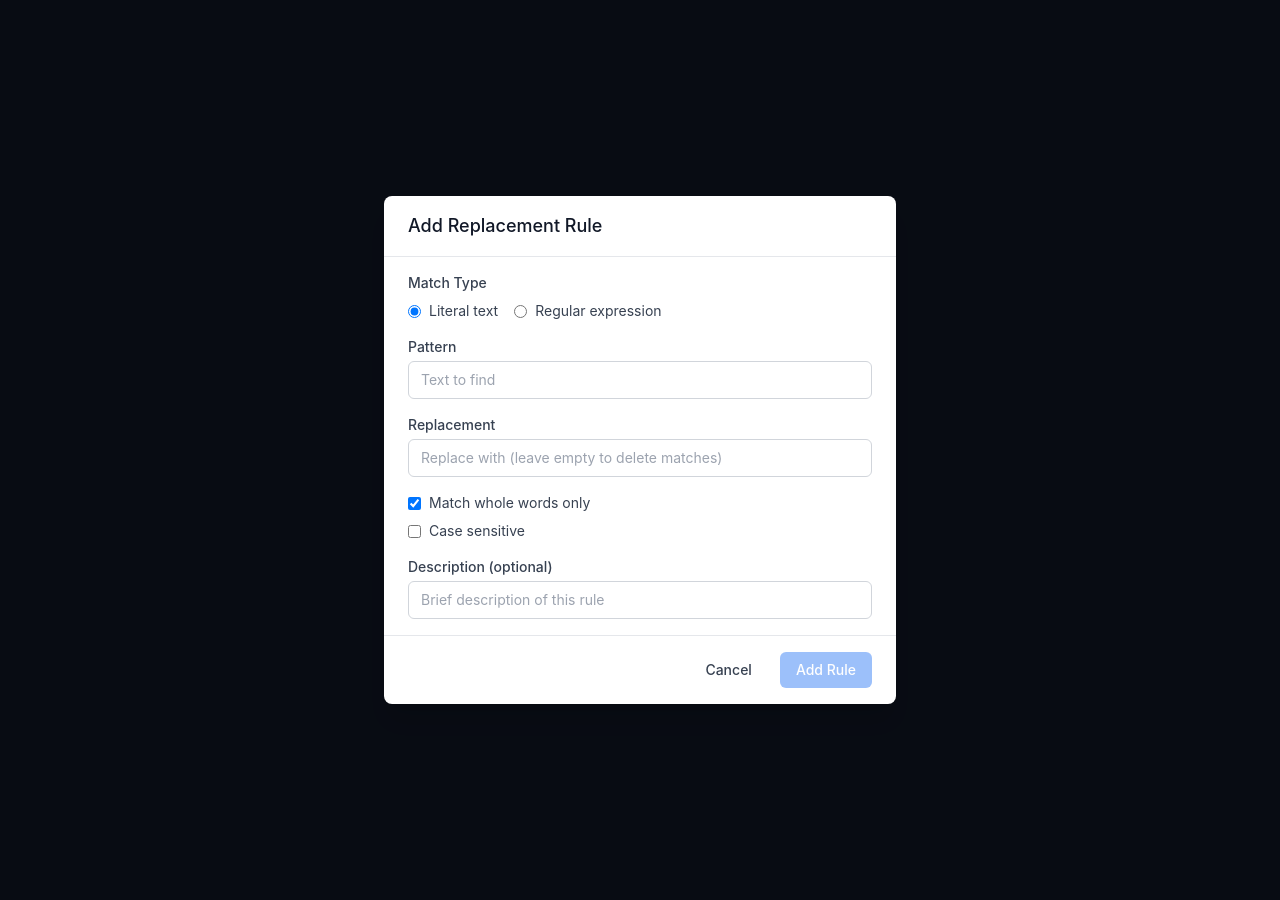
Test: ReplacementEditor › validates regex patterns
The width and height of the screenshot is (1280, 900).
// Switch to regex mode
Click the radio button labelled "Regular expression". click: click(521, 311)
box: 514,304 -> 527,318
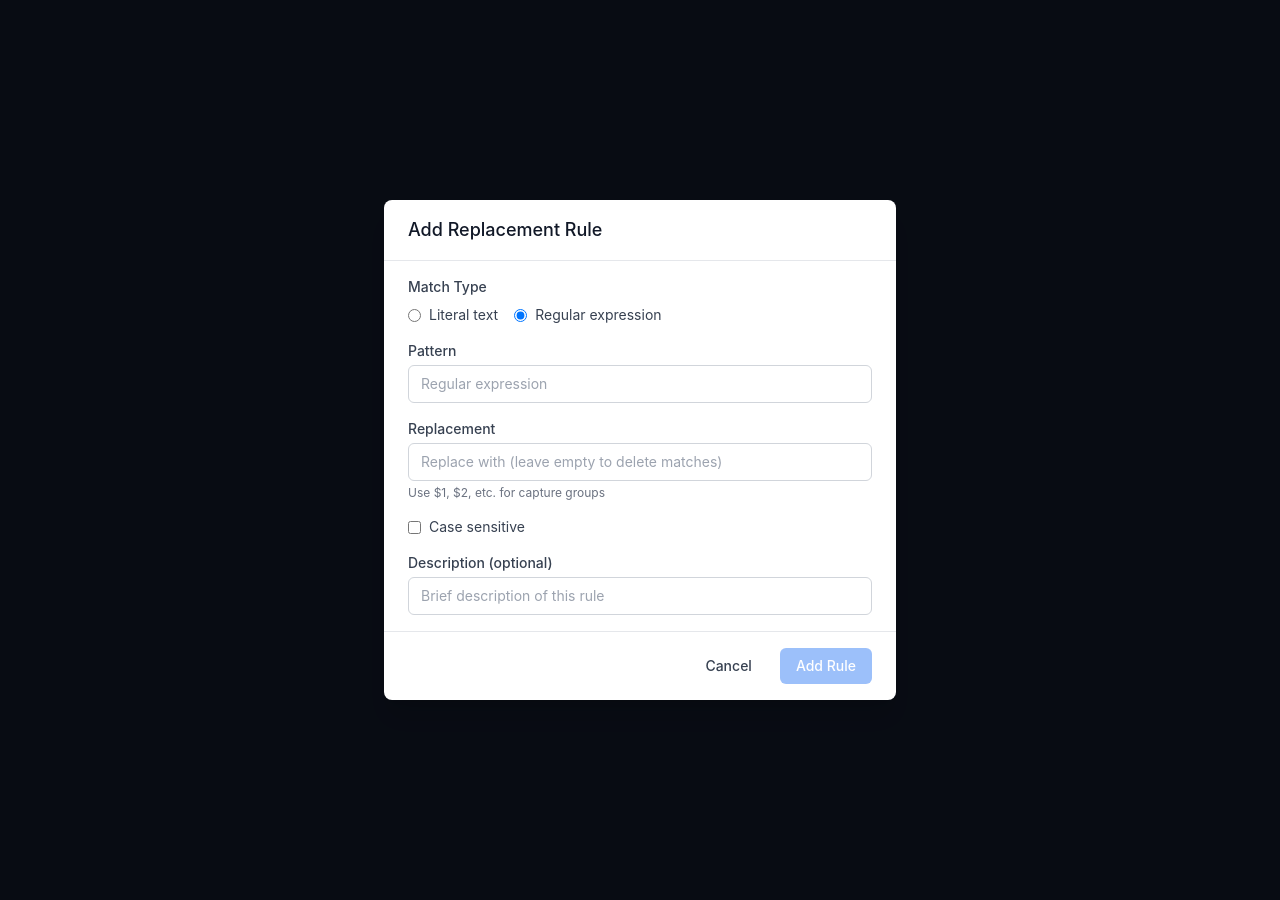
// Enter invalid regex
Type "[invalid" into the field with placeholder "Regular expression". click: (640, 384)
box: 408,365 -> 872,403
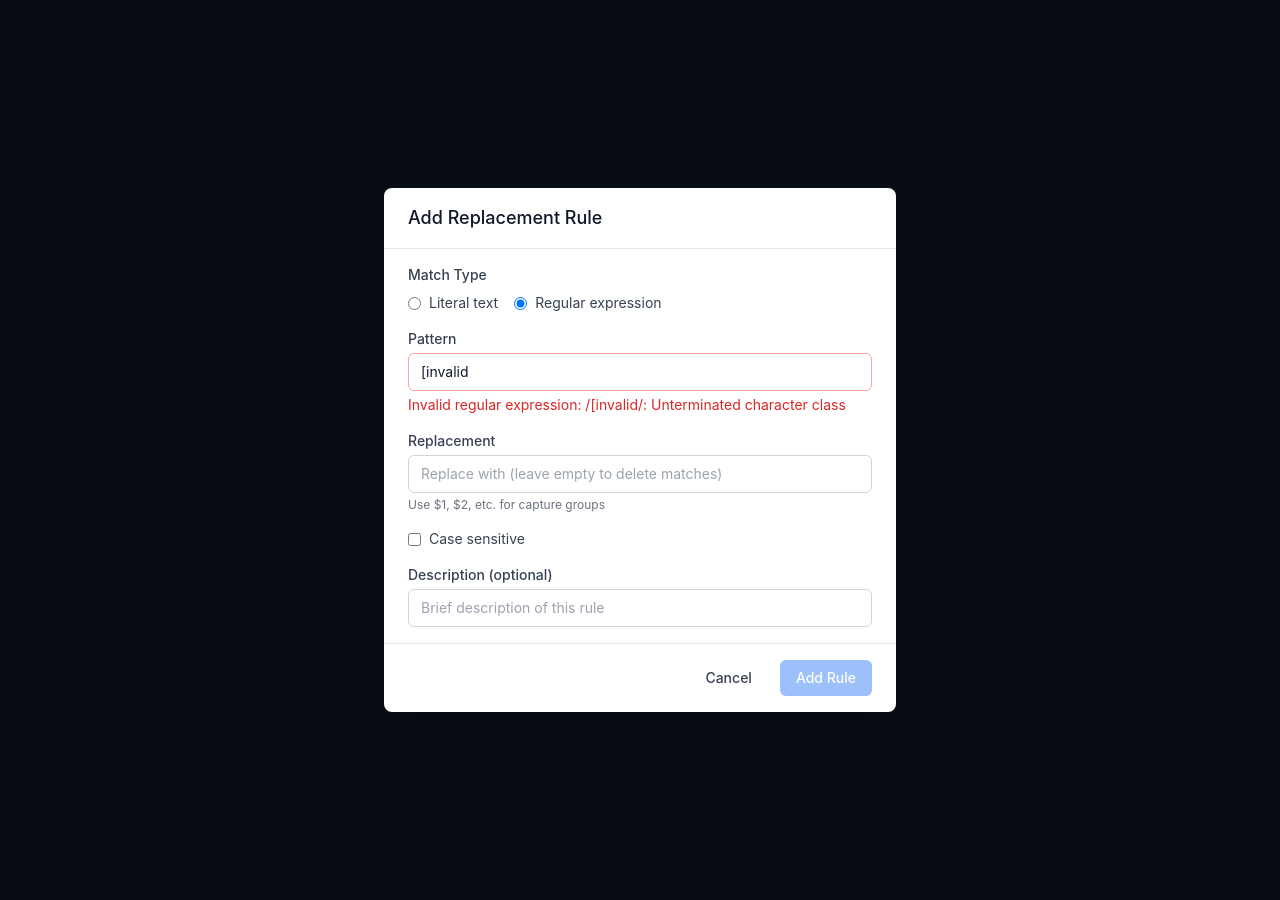
Check: the text "Invalid" is shown, box 408,396 -> 846,413
